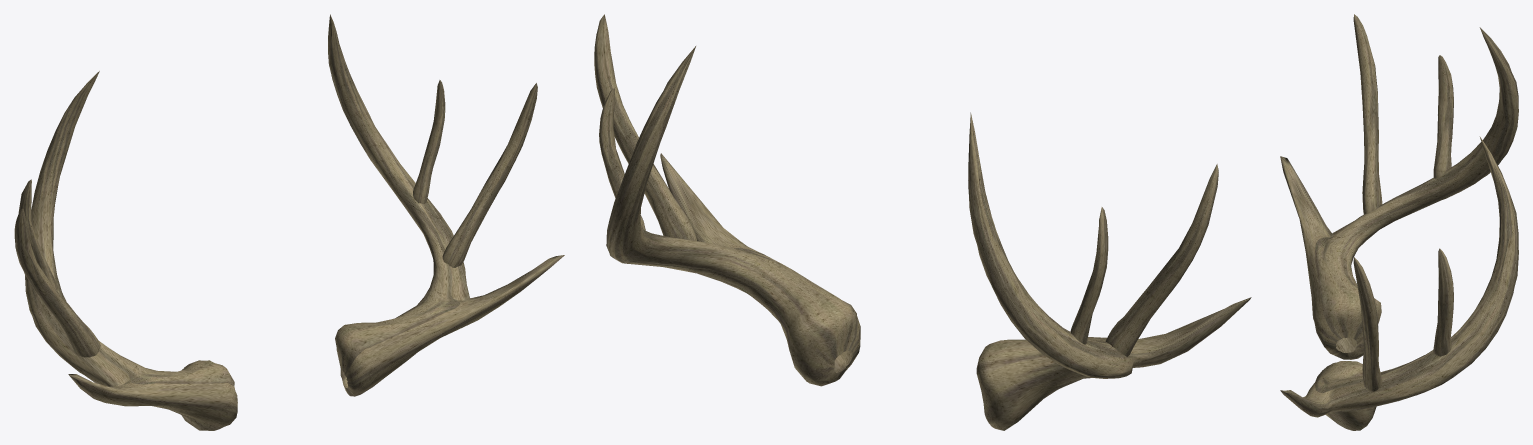
Rendered from deerantlers-lite.glb.
The picture shows the model from 3 angles, left to right: view 1: azimuth 30°, elevation 25°; view 2: azimuth 150°, elevation 25°; view 3: azimuth 270°, elevation 25°; orthographic projection. The views are drawn at different scales.
Parts seen in each view (by area): view 1: deerantlers; view 2: deerantlers; view 3: deerantlers.
Part boxes in pixels (x1,y1,x2,y2): deerantlers: (14,14,564,430); deerantlers: (594,14,1251,430); deerantlers: (1280,14,1518,430).
Size of the model in its own units: 0.4443 by 0.2632 by 0.1823.
Materials: 1 (1 with a texture image).
